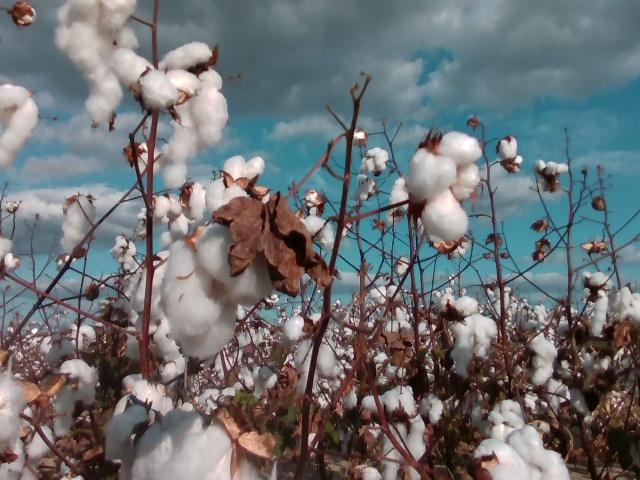cotton_ready: (160, 226, 274, 357), (54, 0, 141, 124), (159, 42, 228, 187), (135, 411, 279, 480), (407, 132, 481, 237), (364, 389, 442, 480), (106, 374, 181, 459), (480, 426, 572, 480), (439, 296, 497, 375), (284, 314, 340, 390), (205, 154, 264, 216), (14, 404, 61, 480), (51, 361, 98, 437), (131, 318, 189, 379), (117, 51, 176, 109), (0, 84, 39, 170), (127, 247, 174, 317), (0, 368, 25, 480), (25, 324, 94, 361), (61, 197, 95, 255), (582, 271, 608, 337), (151, 194, 189, 235), (234, 367, 279, 400), (180, 389, 237, 415), (231, 308, 270, 346), (530, 336, 558, 384), (297, 217, 340, 247), (386, 178, 415, 221), (184, 181, 212, 219), (489, 398, 525, 427), (612, 284, 640, 320), (0, 235, 20, 272)
